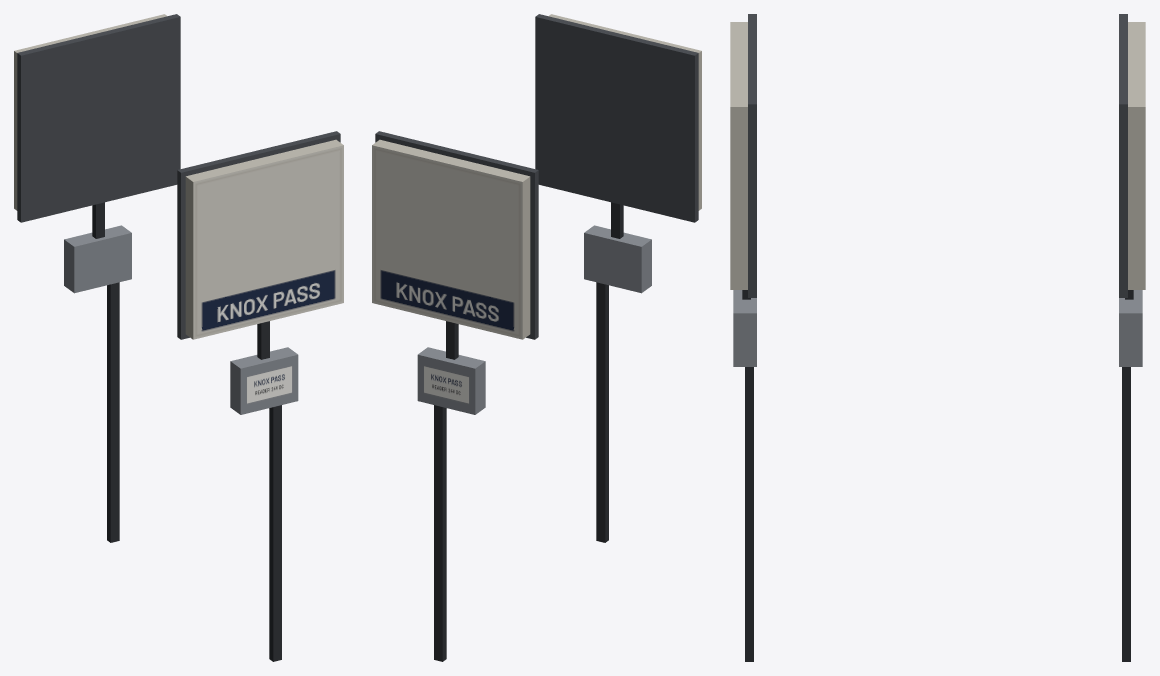
Rendered from MinidoracatKnoxPass_reader_pillar_E.glb.
3 views of the same model, side by side, from view 1: azimuth 30°, elevation 25°; view 2: azimuth 150°, elevation 25°; view 3: azimuth 270°, elevation 25° (orthographic). The views are drawn at different scales.
Parts seen in each view (by area): view 1: knoxpass_reader_pillar_E; view 2: knoxpass_reader_pillar_E; view 3: knoxpass_reader_pillar_E.
Part boxes in pixels (x1=…): knoxpass_reader_pillar_E: x1=14, y1=14, x2=343, y2=661; knoxpass_reader_pillar_E: x1=372, y1=14, x2=701, y2=661; knoxpass_reader_pillar_E: x1=730, y1=14, x2=1145, y2=661.
Bounding box in the file's own units: 0.36 × 1.1 × 0.7.
Materials: 1 (1 with a texture image).
